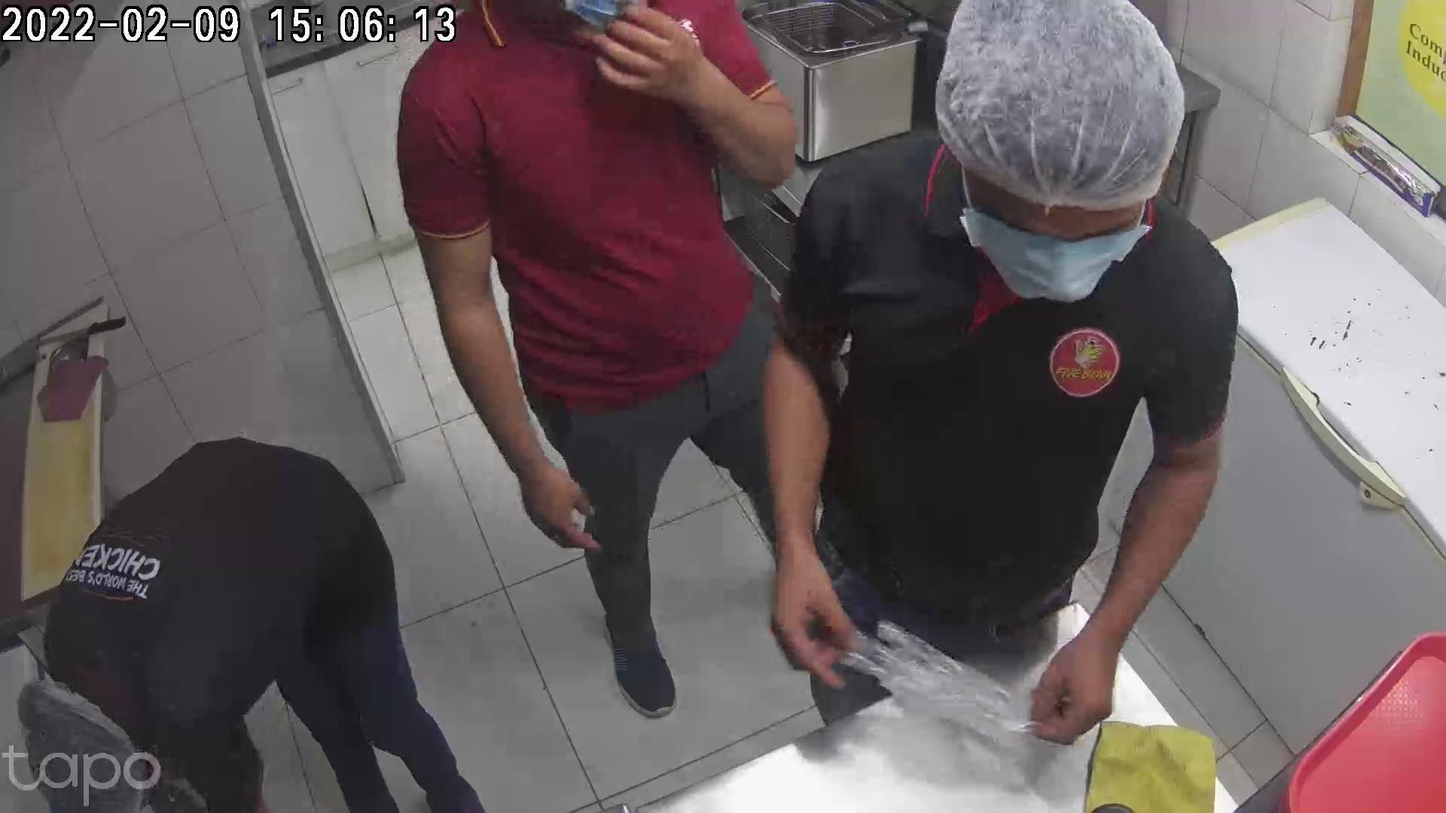no_gloves: (586, 17, 724, 113), (515, 439, 601, 551)
